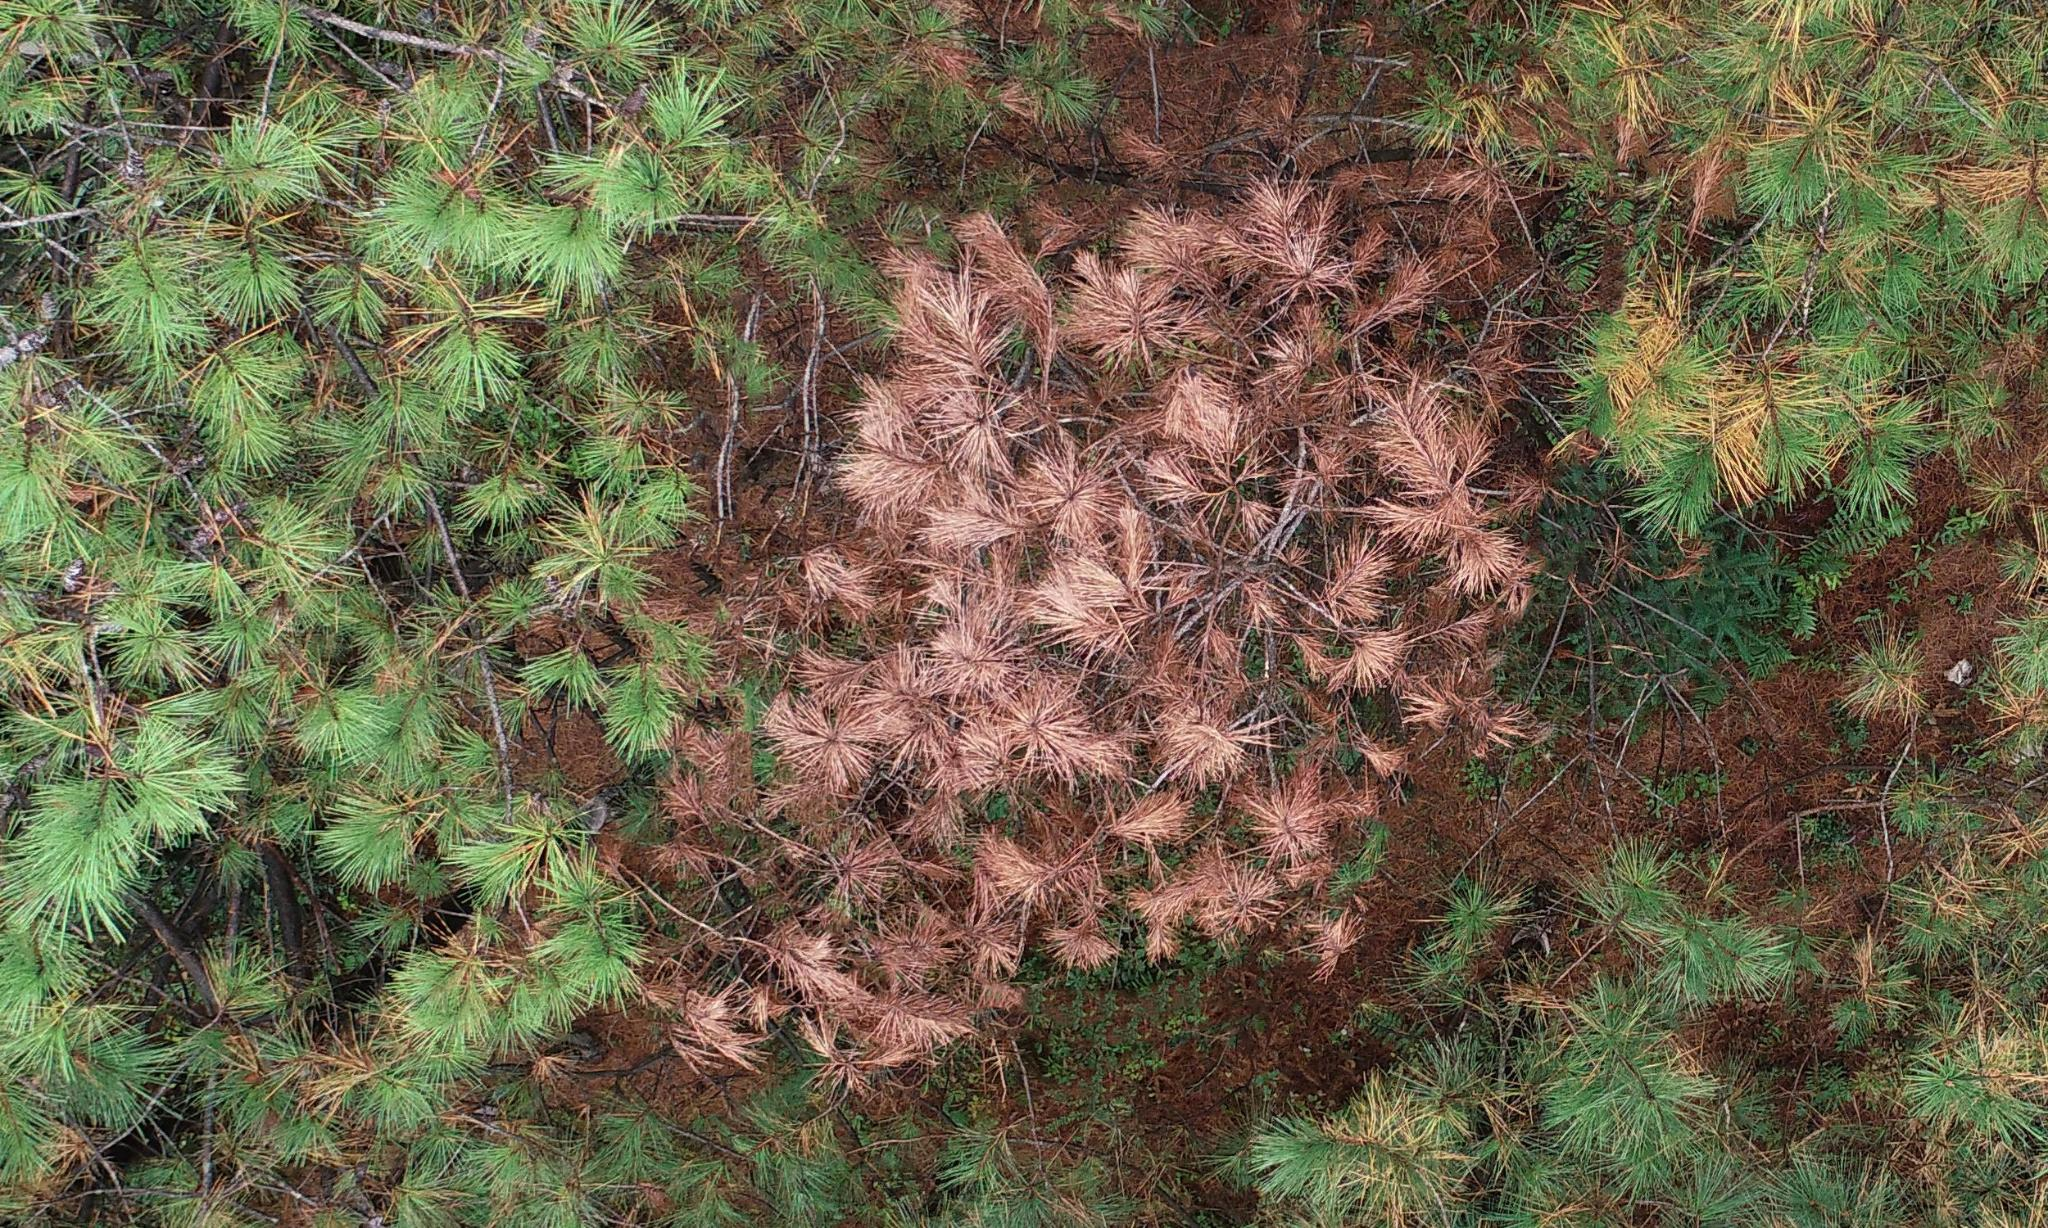heavy: (640, 159, 1586, 1047)
light: (1599, 7, 2048, 532)
